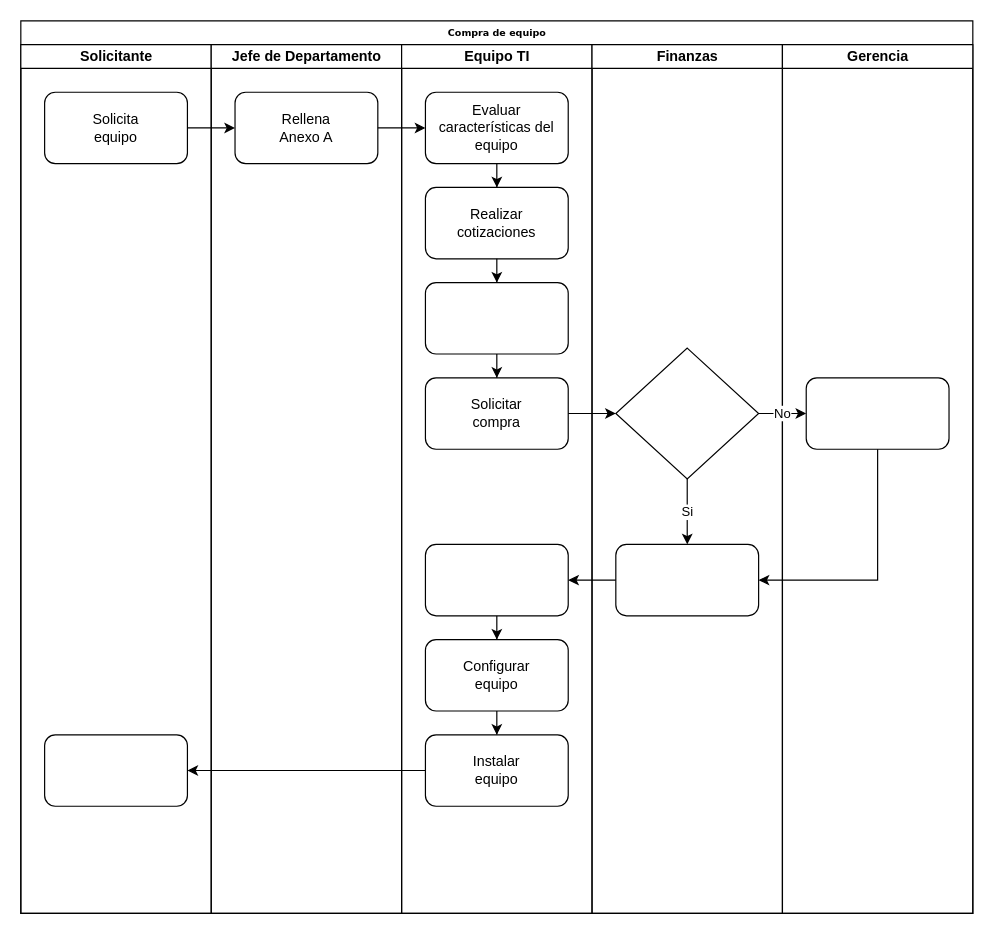
Some shapes in this 994 by 934 pixel diagram are drawn without their labels. Each missing label, with the box of its shape:
Analizar y escoger cotizacion: (424, 281, 568, 354)
Autorizar compra: (805, 377, 949, 449)
Comprar: (615, 543, 759, 616)
Firmar acta de entrega: (43, 734, 187, 806)
Recepcionar equipo: (424, 543, 568, 616)
¿Esta en el presupuesto?: (615, 347, 759, 479)
